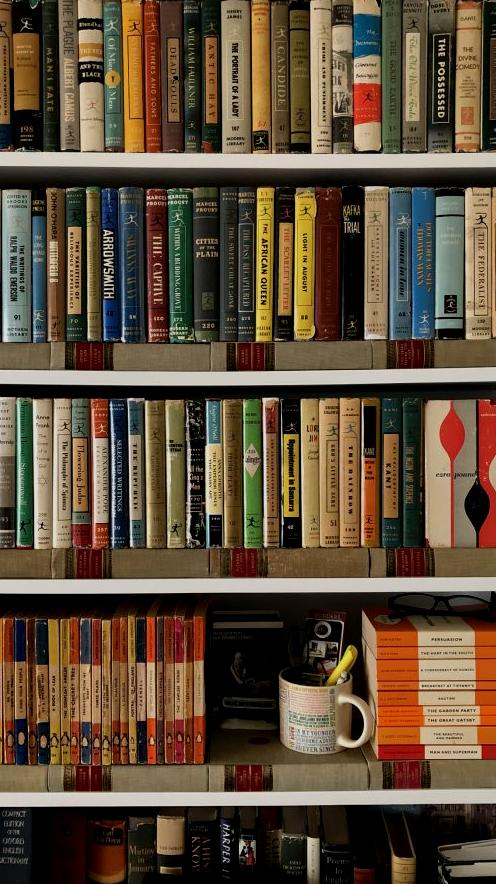book: (434, 190, 464, 342), (2, 191, 31, 344), (454, 1, 482, 153), (465, 187, 493, 338), (192, 189, 219, 345), (314, 188, 341, 344), (427, 0, 454, 152), (167, 190, 193, 346), (401, 0, 427, 151), (340, 186, 365, 341), (364, 187, 389, 340), (118, 189, 142, 345), (330, 0, 354, 151), (146, 190, 169, 346), (288, 1, 311, 153), (389, 188, 412, 340), (160, 1, 183, 151), (273, 188, 295, 344), (294, 186, 316, 341), (250, 0, 272, 153), (310, 0, 332, 152), (339, 398, 361, 549), (123, 0, 145, 151), (381, 0, 403, 150), (380, 400, 402, 550), (65, 188, 86, 344), (102, 0, 123, 151), (165, 400, 186, 551), (145, 400, 166, 550), (52, 398, 73, 548), (280, 398, 301, 548), (255, 188, 275, 345), (70, 398, 91, 547), (220, 188, 240, 344), (100, 189, 120, 344), (142, 0, 162, 152), (200, 0, 220, 152), (223, 398, 243, 549), (243, 399, 263, 550), (271, 1, 291, 152), (319, 398, 339, 548), (300, 399, 320, 548), (361, 397, 381, 546), (109, 399, 129, 548), (237, 188, 256, 344), (402, 398, 422, 546), (41, 0, 60, 153), (182, 0, 201, 152), (92, 398, 111, 549), (59, 0, 78, 150), (85, 187, 103, 344), (46, 184, 64, 339), (30, 190, 48, 344), (205, 398, 223, 549), (263, 397, 280, 548), (191, 606, 206, 767), (0, 399, 16, 547), (481, 0, 496, 152), (13, 618, 28, 767), (112, 616, 127, 764), (35, 617, 49, 768), (47, 619, 61, 769), (2, 618, 16, 767), (172, 613, 185, 764), (163, 616, 176, 765), (59, 618, 72, 766), (25, 620, 38, 768), (68, 619, 81, 765), (0, 0, 12, 150), (135, 614, 147, 764), (92, 619, 104, 766), (184, 609, 195, 765), (146, 613, 157, 763), (127, 616, 138, 766), (101, 616, 112, 765), (154, 613, 164, 763), (375, 635, 496, 645), (81, 617, 89, 765), (491, 187, 496, 338), (0, 614, 4, 766)
